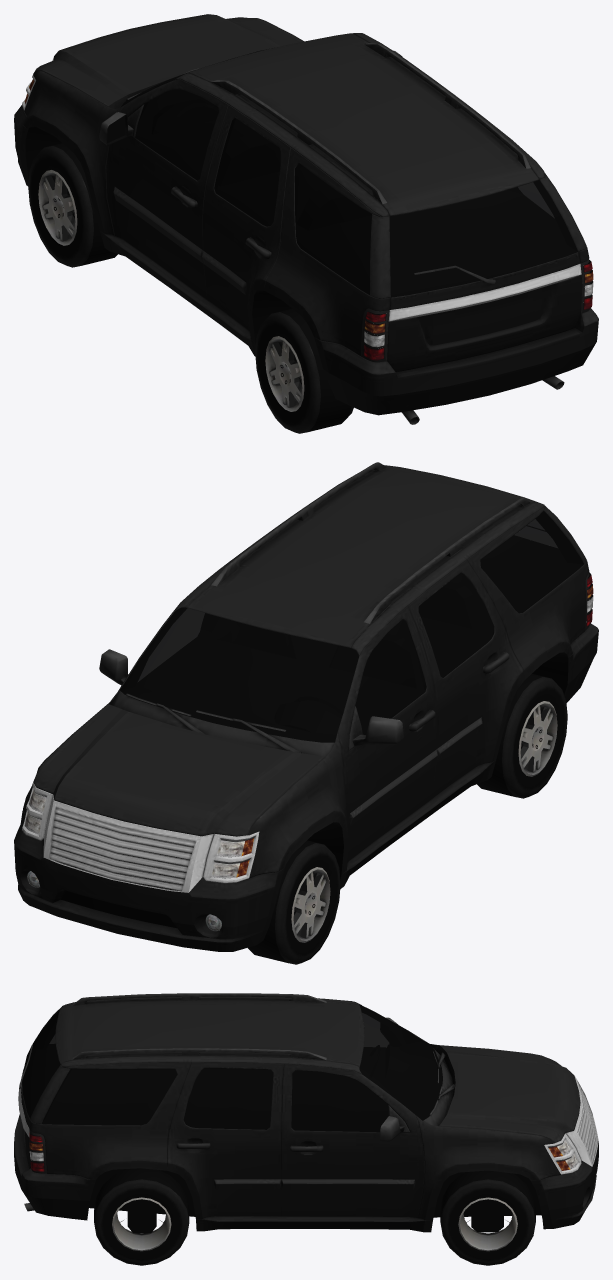
File: suv.glb
The picture shows the model from 3 angles, top to bottom: view 1: azimuth 30°, elevation 25°; view 2: azimuth 150°, elevation 25°; view 3: azimuth 270°, elevation 25°; orthographic projection. The views are drawn at different scales.
Parts seen in each view (by area): view 1: SUV_Body, wheel_0, wheel_2; view 2: SUV_Body, wheel_0, wheel_2; view 3: SUV_Body, wheel_1, wheel_3.
Part boxes in pixels (<box>): SUV_Body: <box>14,14,598,424</box>; wheel_0: <box>255,308,353,433</box>; wheel_2: <box>28,143,117,267</box>; SUV_Body: <box>14,462,598,951</box>; wheel_0: <box>477,673,567,798</box>; wheel_2: <box>248,840,340,964</box>; SUV_Body: <box>14,993,598,1233</box>; wheel_1: <box>94,1168,189,1265</box>; wheel_3: <box>440,1170,535,1265</box>.
Bounding box in the file's own units: 2.33 × 1.95 × 5.19.
4 materials, 3 textured.
